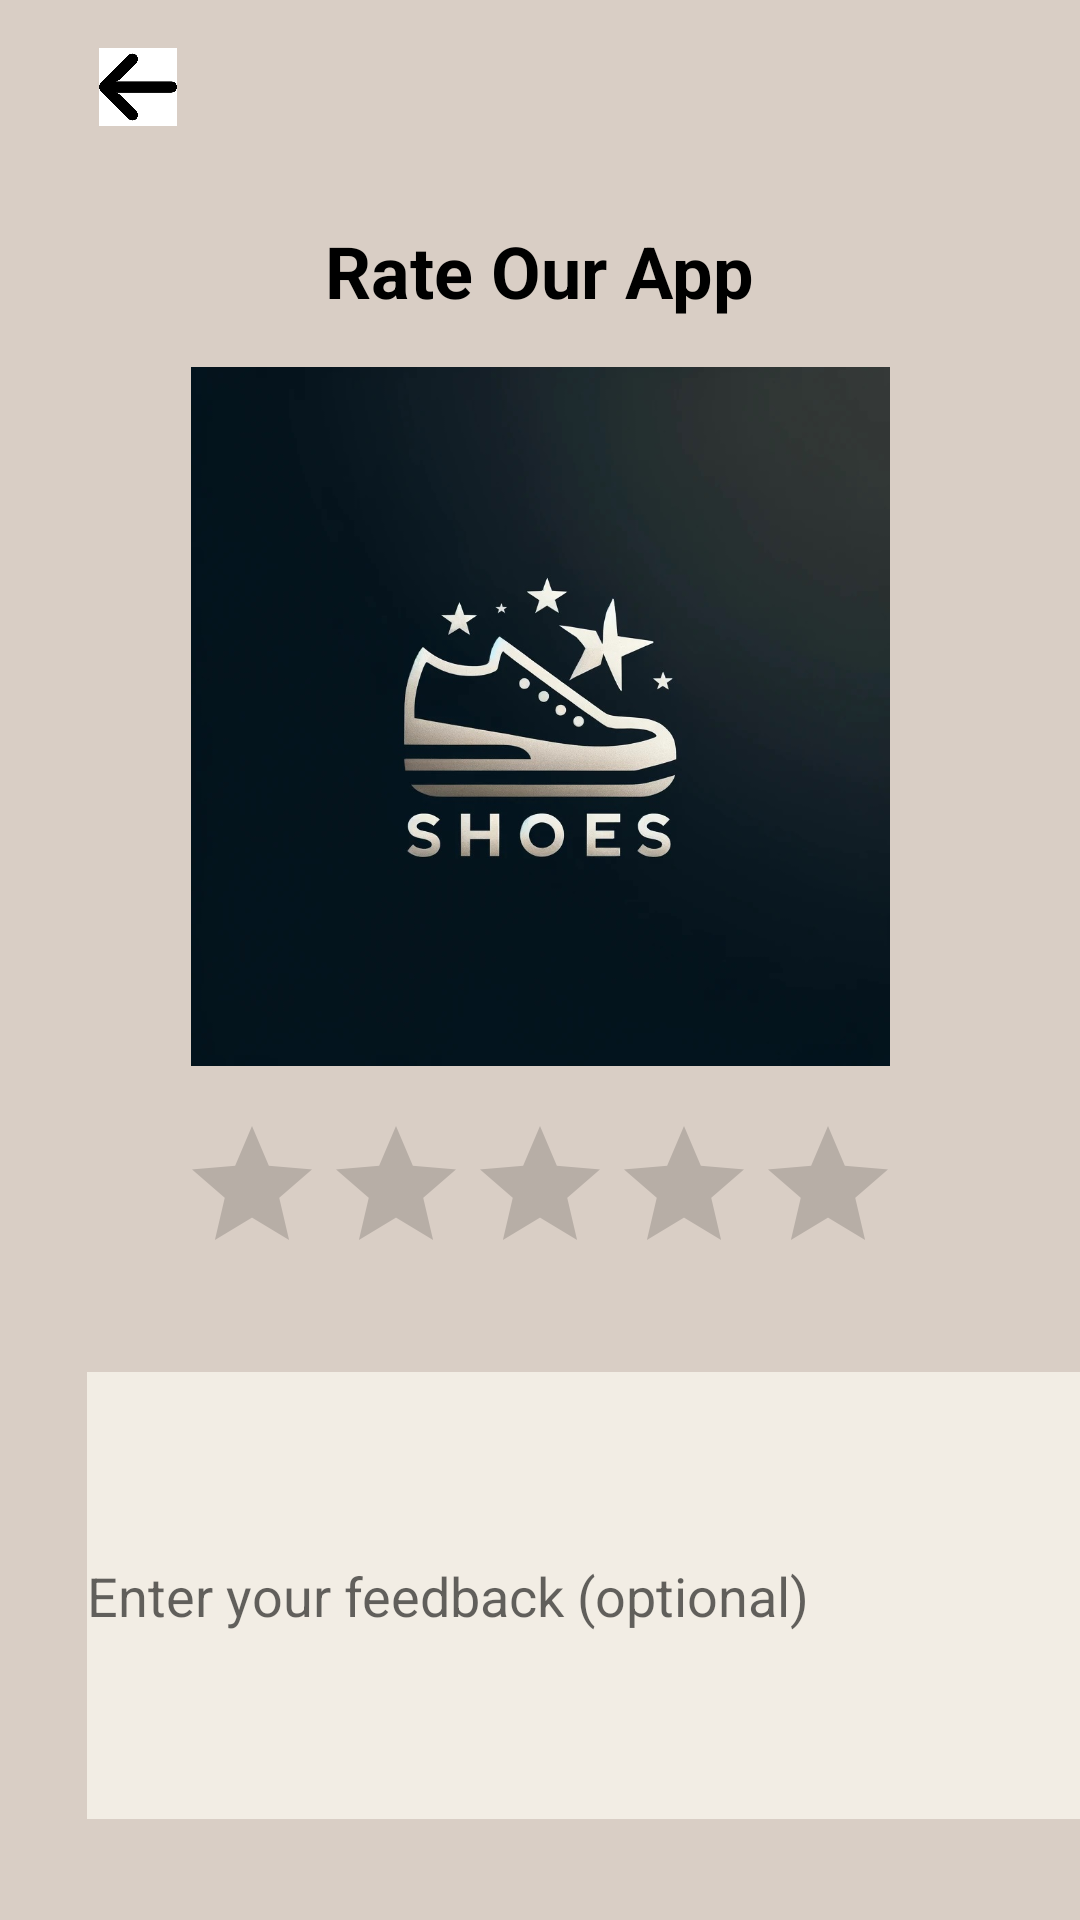

Locate icon controls on the screen. Image size 1080×1920, boxes as (x1, y1, x2, y2).
Back: (99, 48, 177, 126)
